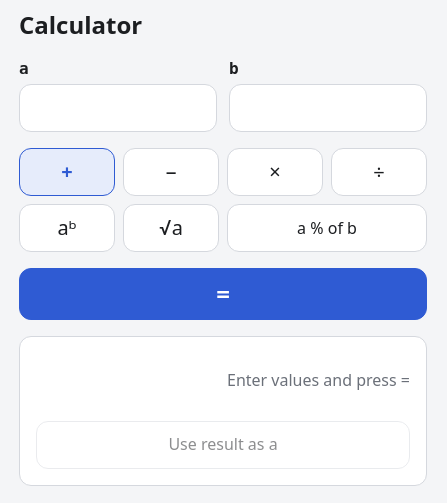
Calculator › shows the result of a calculation
Type "10" into the field labelled "a" at {"x": 118, "y": 108}, box 19,84 -> 217,132
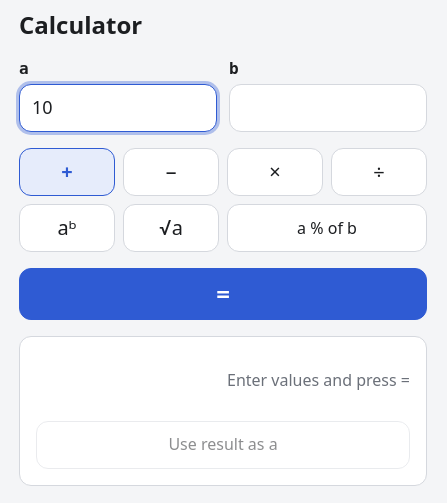
Type "4" into the field labelled "b" at {"x": 328, "y": 108}, box 229,84 -> 427,132
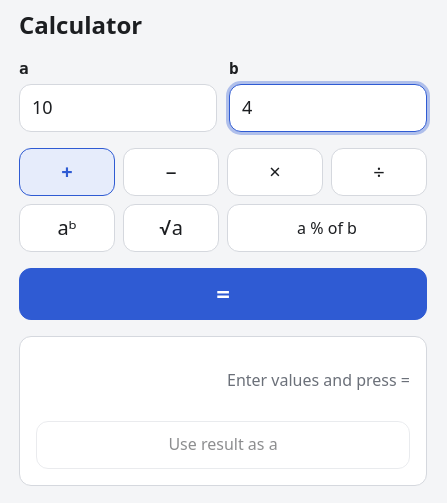
Click the button named "Divide" at {"x": 379, "y": 172}, box 331,148 -> 427,196
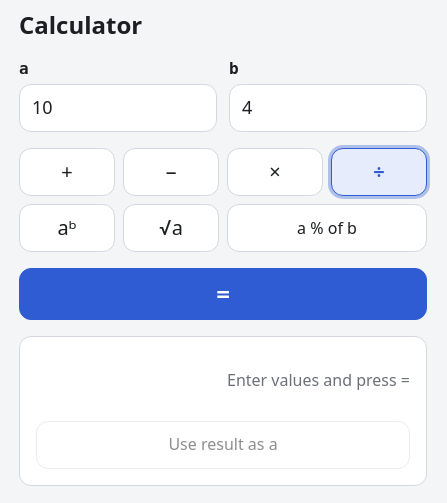
Click the button "=" at {"x": 223, "y": 294}, box 19,268 -> 427,320
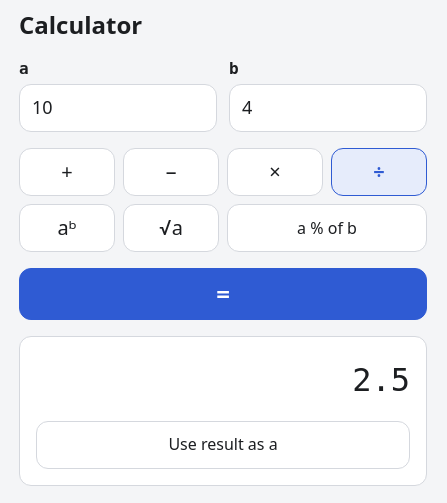
Expected: the text "2.5" is shown, 352,358 -> 410,403
